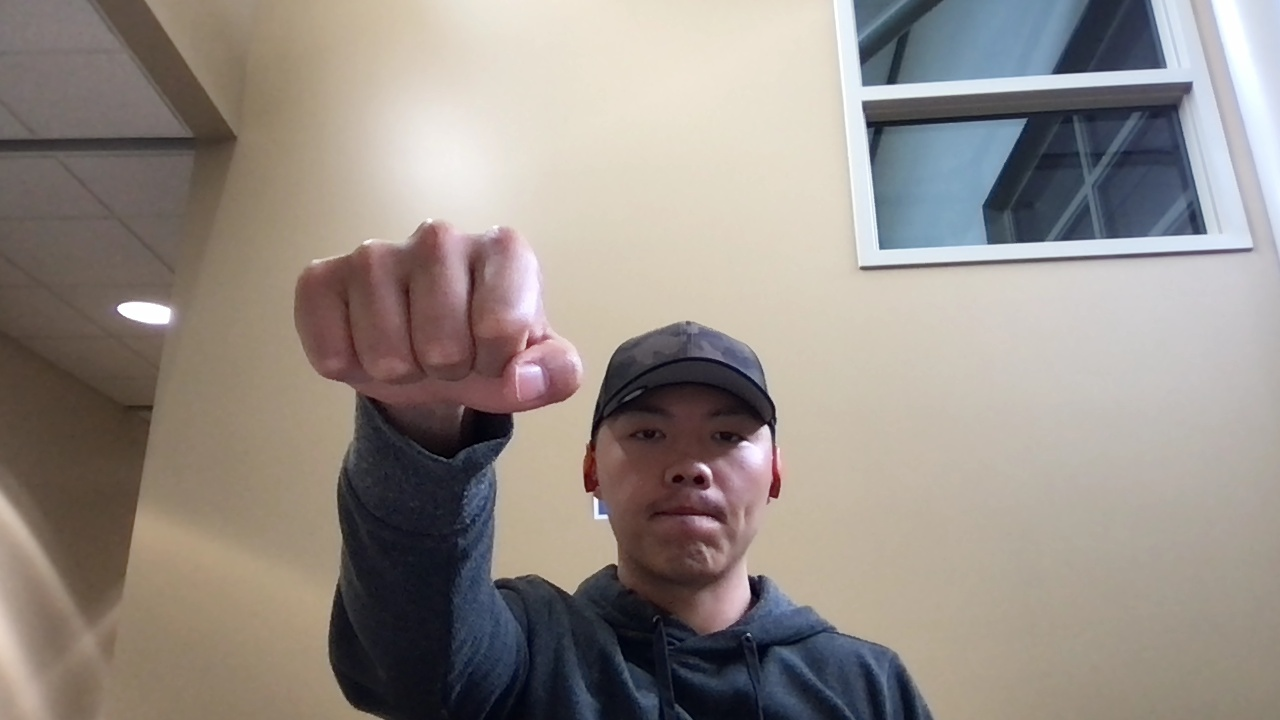Yes: (289, 212, 587, 426)
